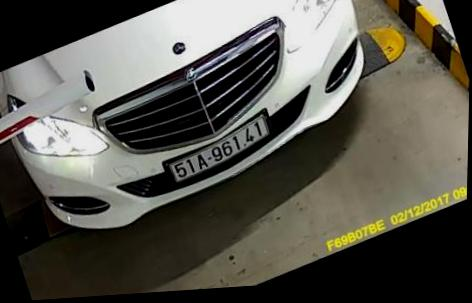License_Plate: (156, 111, 281, 188)
